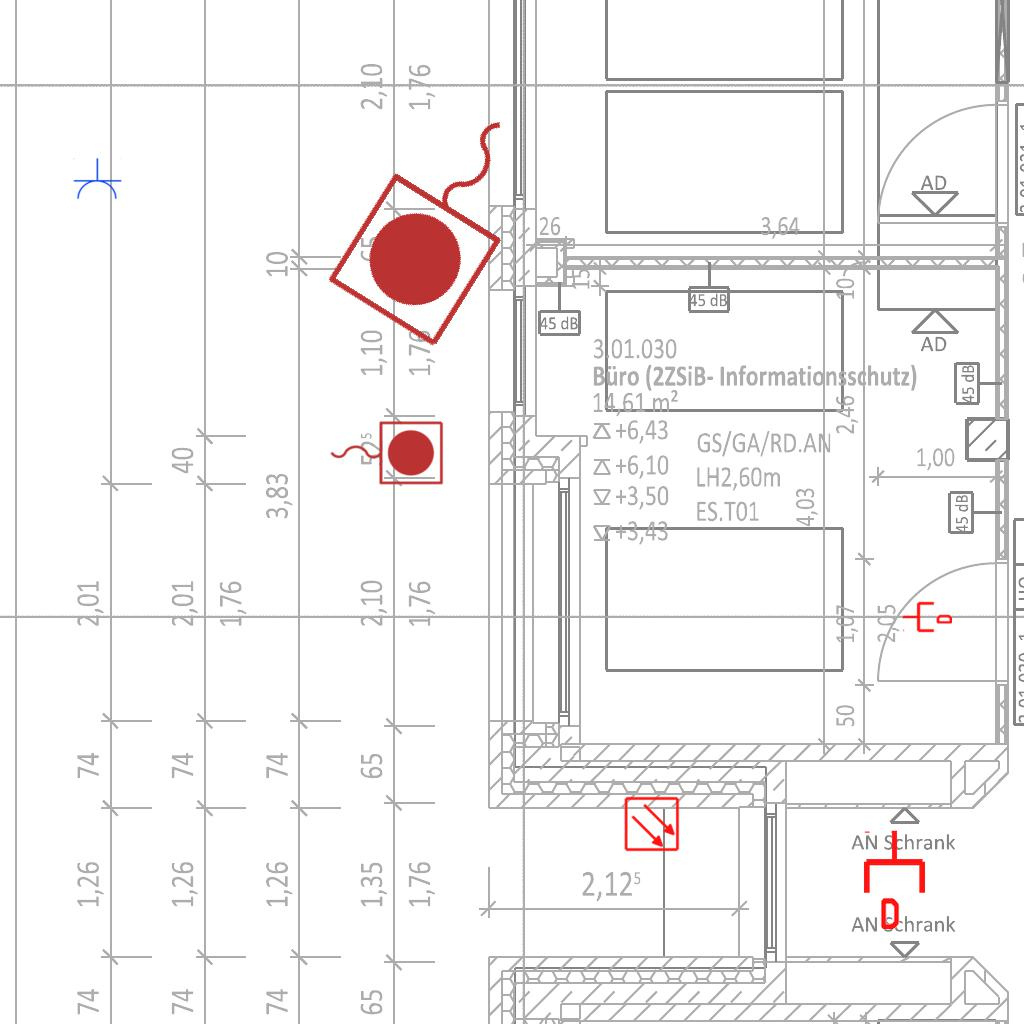Datenanschluss_einfach: (860, 829, 929, 929), (902, 600, 952, 634)
RMO_Rauchmelder_optischer: (624, 796, 680, 852)
Schukosteckdose_einfach: (72, 158, 122, 201)
Zugtaster: (317, 76, 569, 360), (325, 416, 447, 488)
